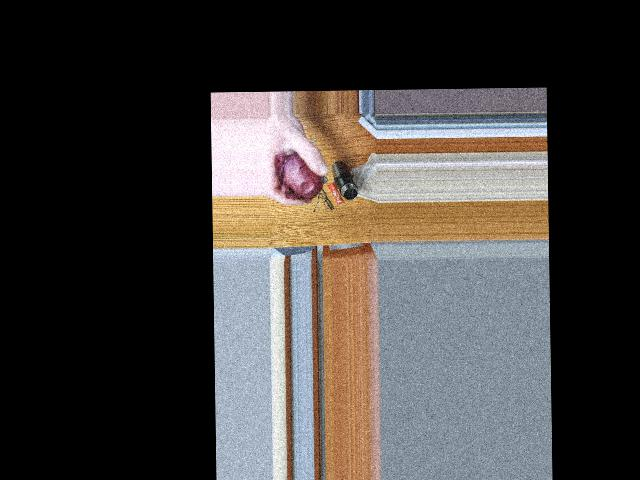onion: (279, 152, 324, 199)
